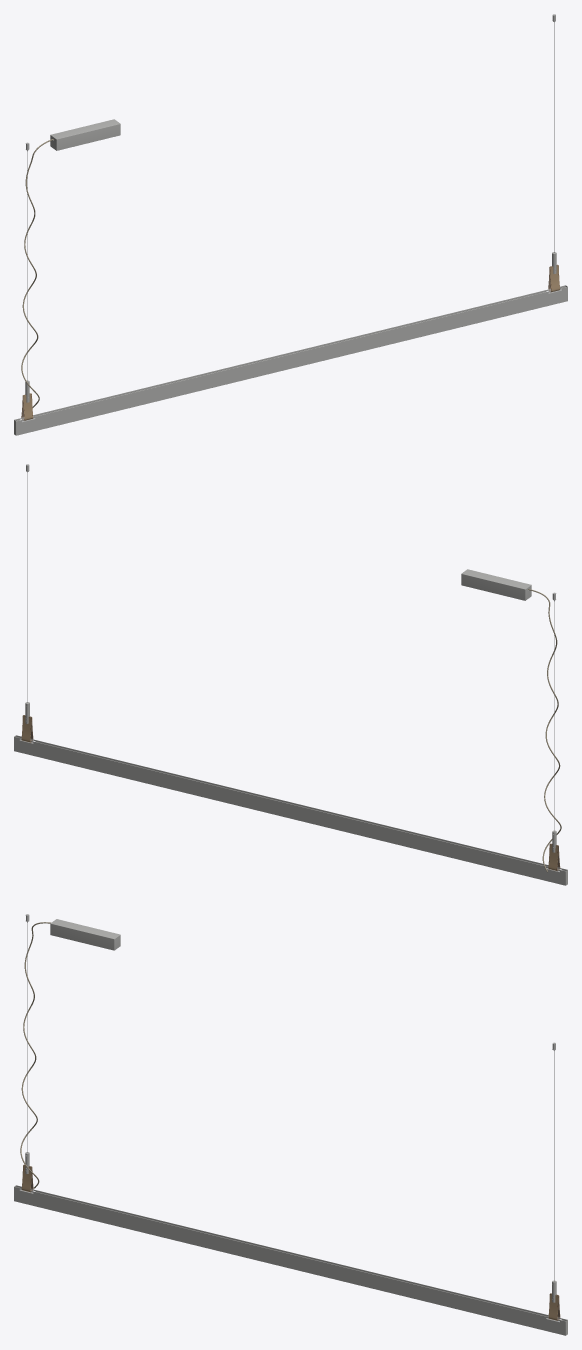
File: PendenteFit10-couro-2000.glb
The picture shows the model from 3 angles, top to bottom: view 1: azimuth 30°, elevation 25°; view 2: azimuth 150°, elevation 25°; view 3: azimuth 330°, elevation 25°; orthographic projection.
Visible parts, largest first — view 1: 3DGeom-21, 3DGeom-22, 3DGeom-30; view 2: 3DGeom-21, 3DGeom-22, 3DGeom-30; view 3: 3DGeom-21, 3DGeom-22, 3DGeom-30.
Part boxes in pixels (bbox=[...]): 3DGeom-21: bbox=[14, 285, 567, 435]; 3DGeom-22: bbox=[50, 119, 120, 150]; 3DGeom-30: bbox=[21, 139, 53, 407]; 3DGeom-21: bbox=[14, 735, 567, 885]; 3DGeom-22: bbox=[461, 569, 531, 600]; 3DGeom-30: bbox=[528, 589, 561, 872]; 3DGeom-21: bbox=[14, 1185, 567, 1335]; 3DGeom-22: bbox=[50, 919, 120, 950]; 3DGeom-30: bbox=[20, 922, 50, 1188].
Bounding box in the file's own units: 2 × 1 × 0.0609.
9 materials, 1 textured.
